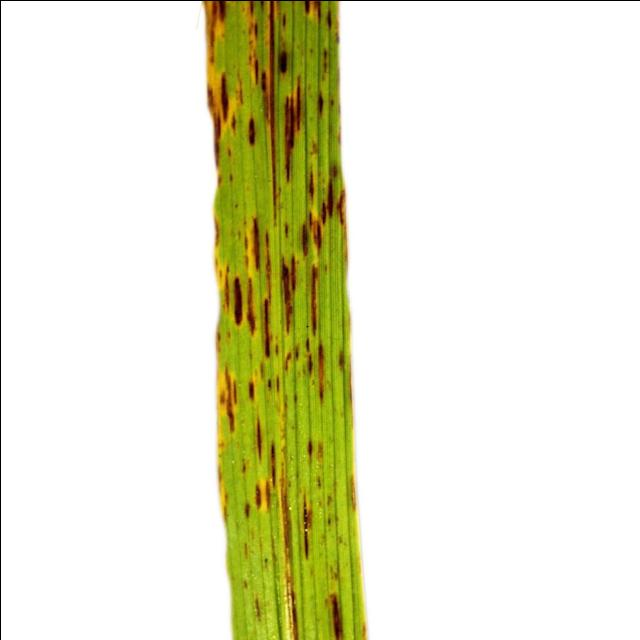Narrow brown: (171, 0, 412, 640)
